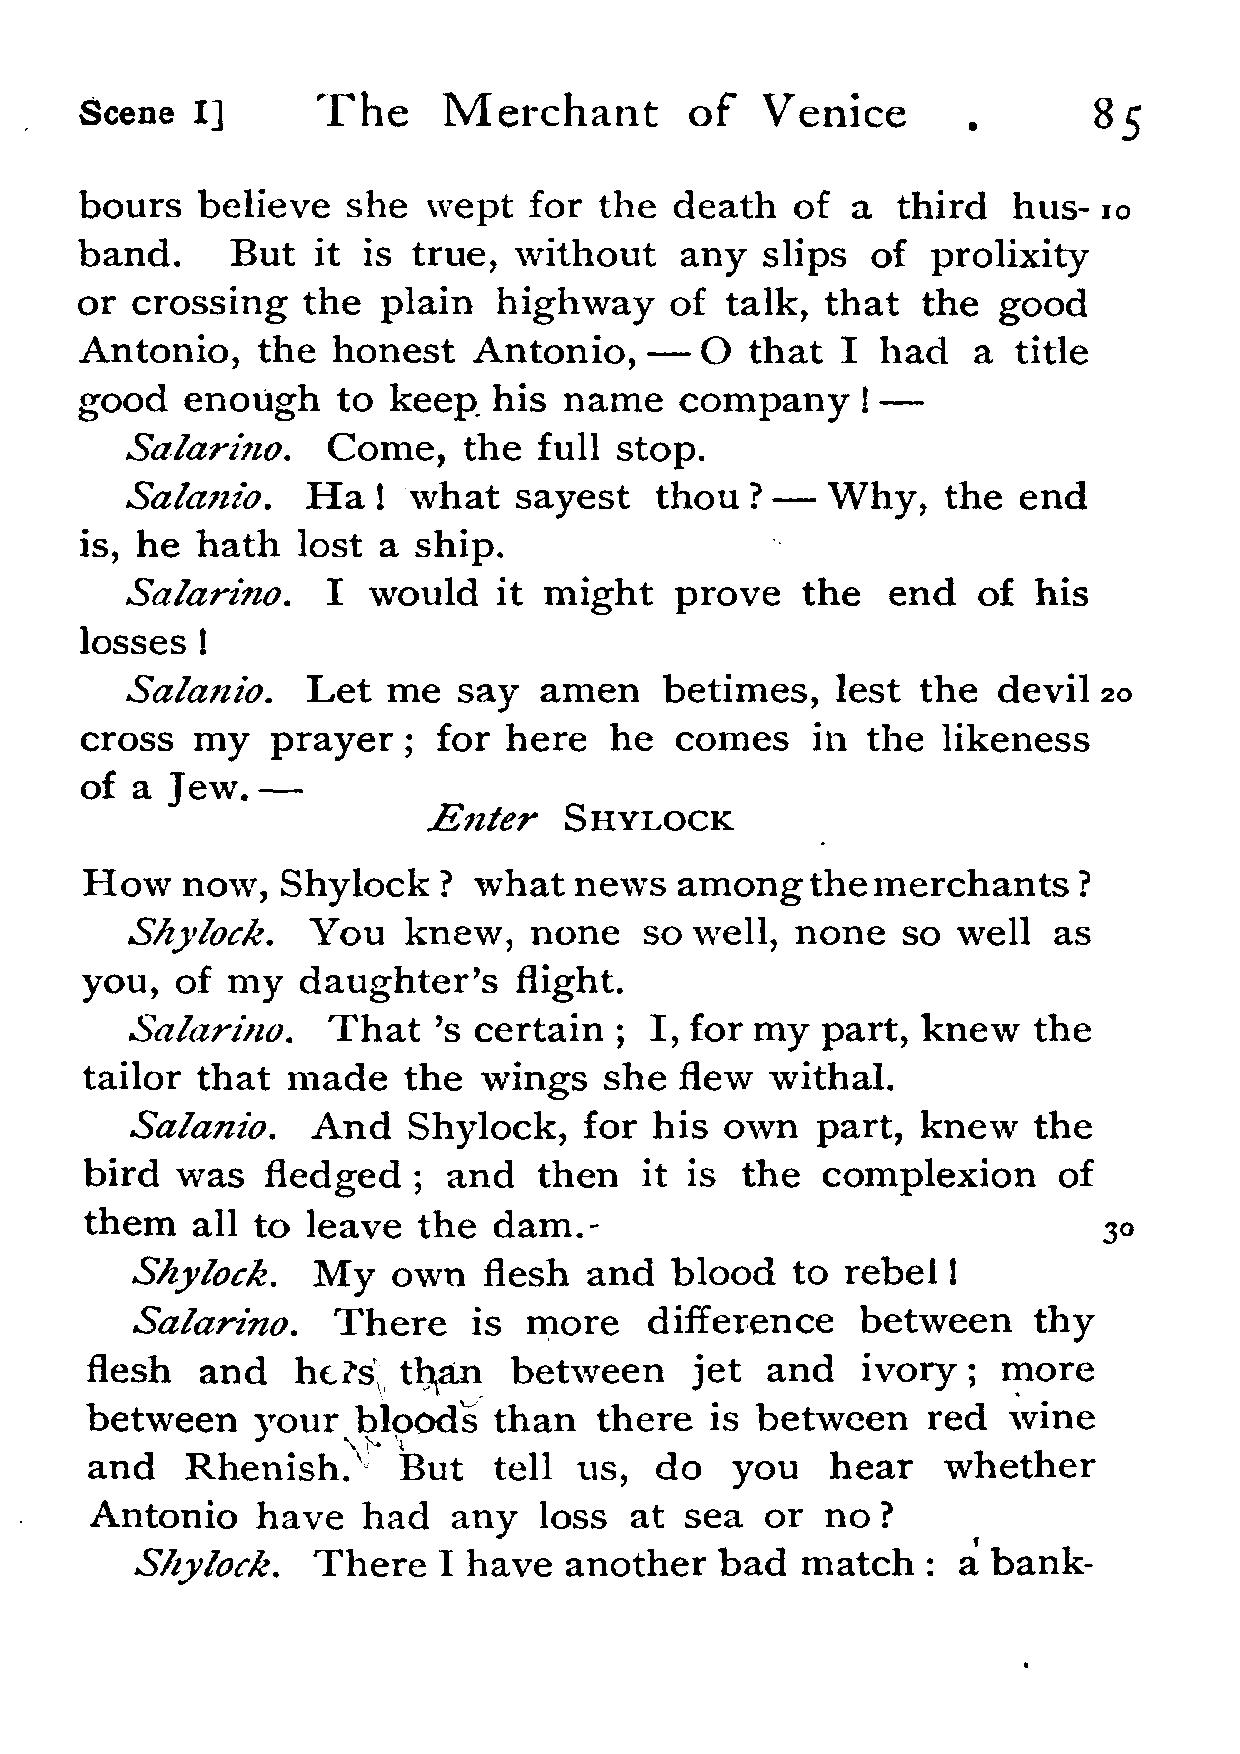content: (70, 185, 1139, 1590)
content_chapter: (311, 89, 911, 132)
content_pagenumber: (1088, 86, 1143, 148)
